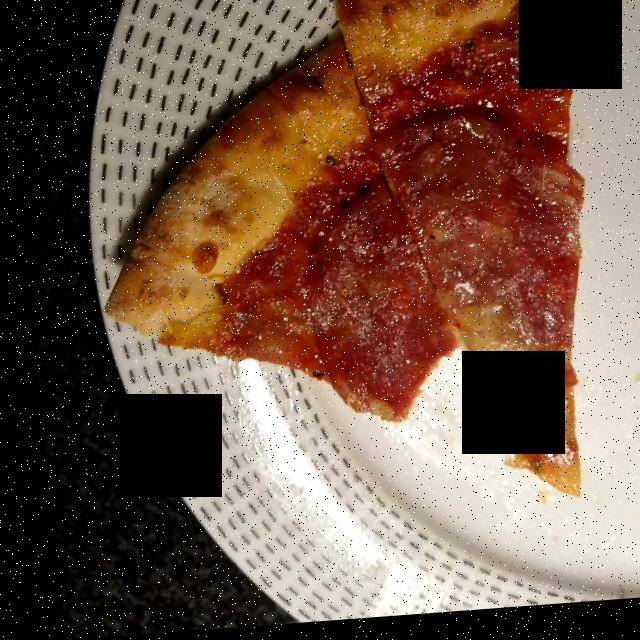pizza-margherita-baked: (104, 0, 579, 494)
